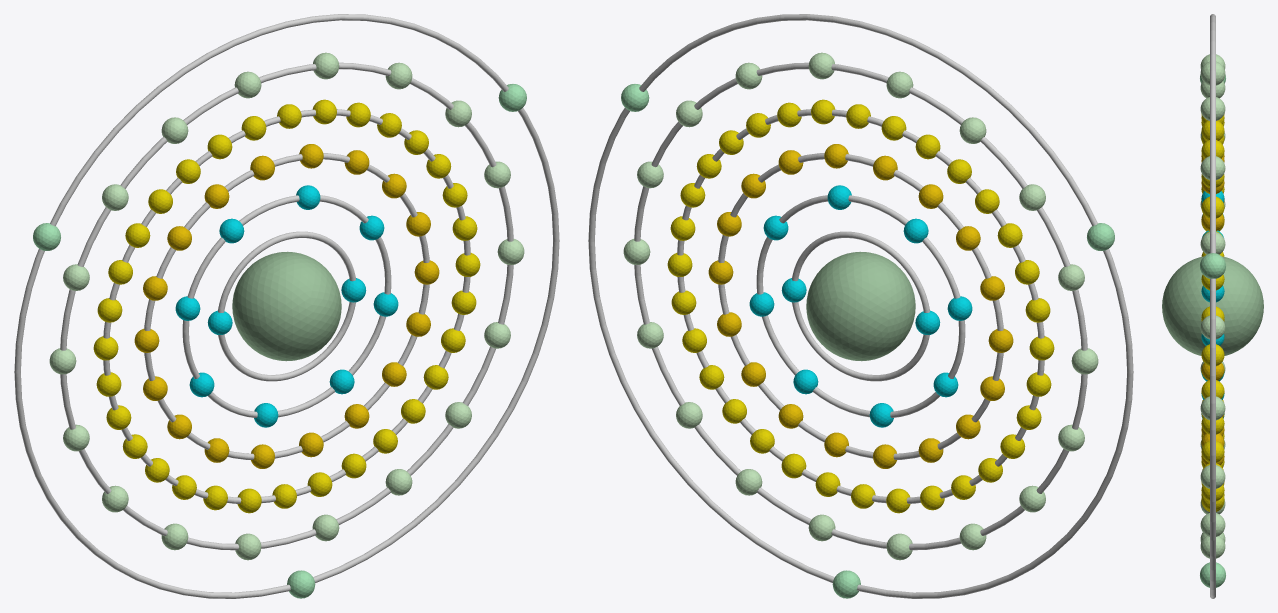
The picture shows the model from 3 angles, left to right: view 1: azimuth 30°, elevation 25°; view 2: azimuth 150°, elevation 25°; view 3: azimuth 270°, elevation 25°; orthographic projection. The views are drawn at different scales.
Visible parts, largest first — view 1: world; view 2: world; view 3: world.
Boxes of the visible parts, <box> form: world: <box>14,14,559,598</box>; world: <box>588,14,1133,598</box>; world: <box>1162,14,1263,598</box>.
Size of the model in its own units: 2.53 by 2.57 by 0.44.
